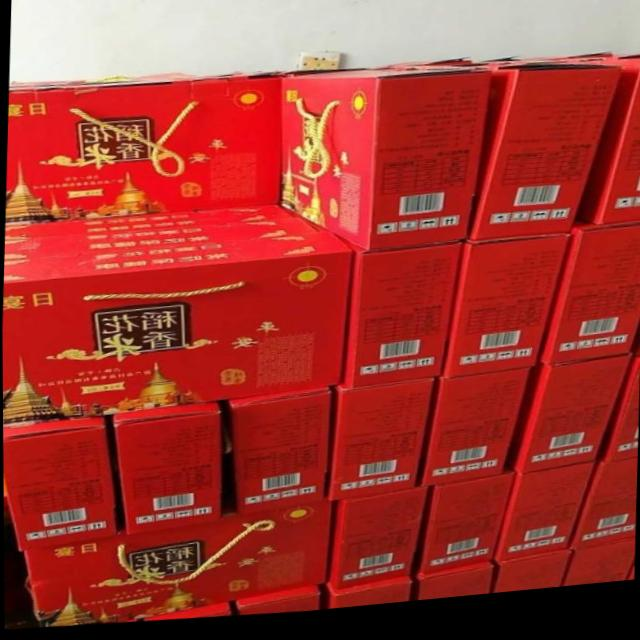box: (2, 211, 350, 426), (367, 70, 621, 250), (4, 77, 281, 223), (278, 75, 487, 258), (23, 508, 328, 628), (278, 209, 465, 396), (509, 64, 640, 235), (445, 245, 574, 384), (2, 418, 117, 551), (534, 232, 640, 376), (508, 363, 630, 484), (321, 383, 438, 508), (111, 405, 222, 535), (416, 378, 532, 498), (227, 393, 329, 517), (490, 472, 600, 571), (409, 480, 513, 584), (325, 496, 429, 596), (566, 471, 635, 558), (600, 371, 639, 471), (491, 558, 571, 603), (560, 551, 634, 598), (413, 569, 496, 609), (230, 592, 321, 619), (327, 583, 408, 613), (137, 605, 232, 622)
